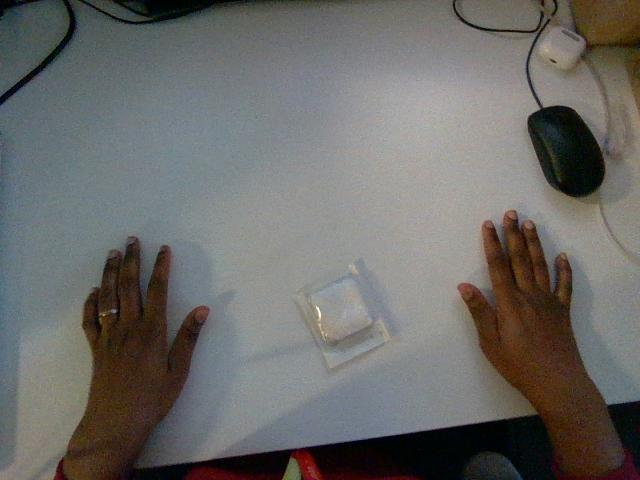gauze: (295, 261, 389, 369)
